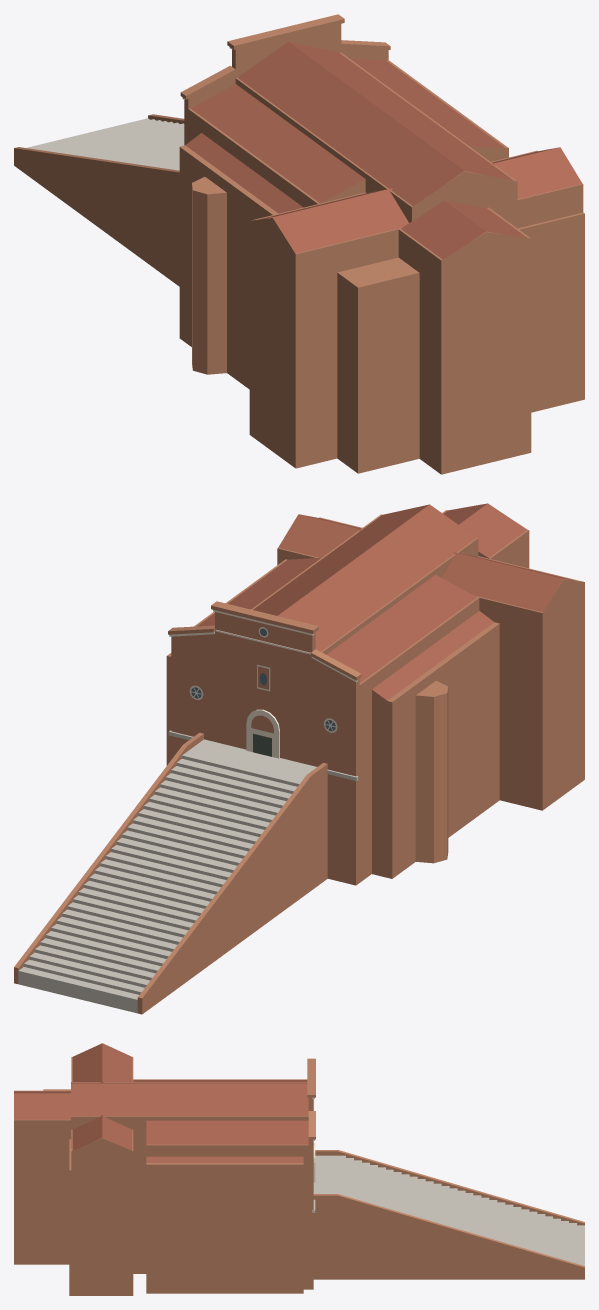
File: rome-santa-maria-in-aracoeli.glb
The picture shows the model from 3 angles, top to bottom: view 1: azimuth 30°, elevation 25°; view 2: azimuth 150°, elevation 25°; view 3: azimuth 270°, elevation 25°; orthographic projection. The views are drawn at different scales.
Parts seen in each view (by area): view 1: Santa Maria in Aracoeli; view 2: Santa Maria in Aracoeli; view 3: Santa Maria in Aracoeli.
Part boxes in pixels (box(x1,y1,x2,y2)): Santa Maria in Aracoeli: box(14, 14, 584, 474); Santa Maria in Aracoeli: box(14, 503, 584, 1014); Santa Maria in Aracoeli: box(14, 1043, 584, 1295).
Size of the model in its own units: 53.4 by 47.35 by 136.
